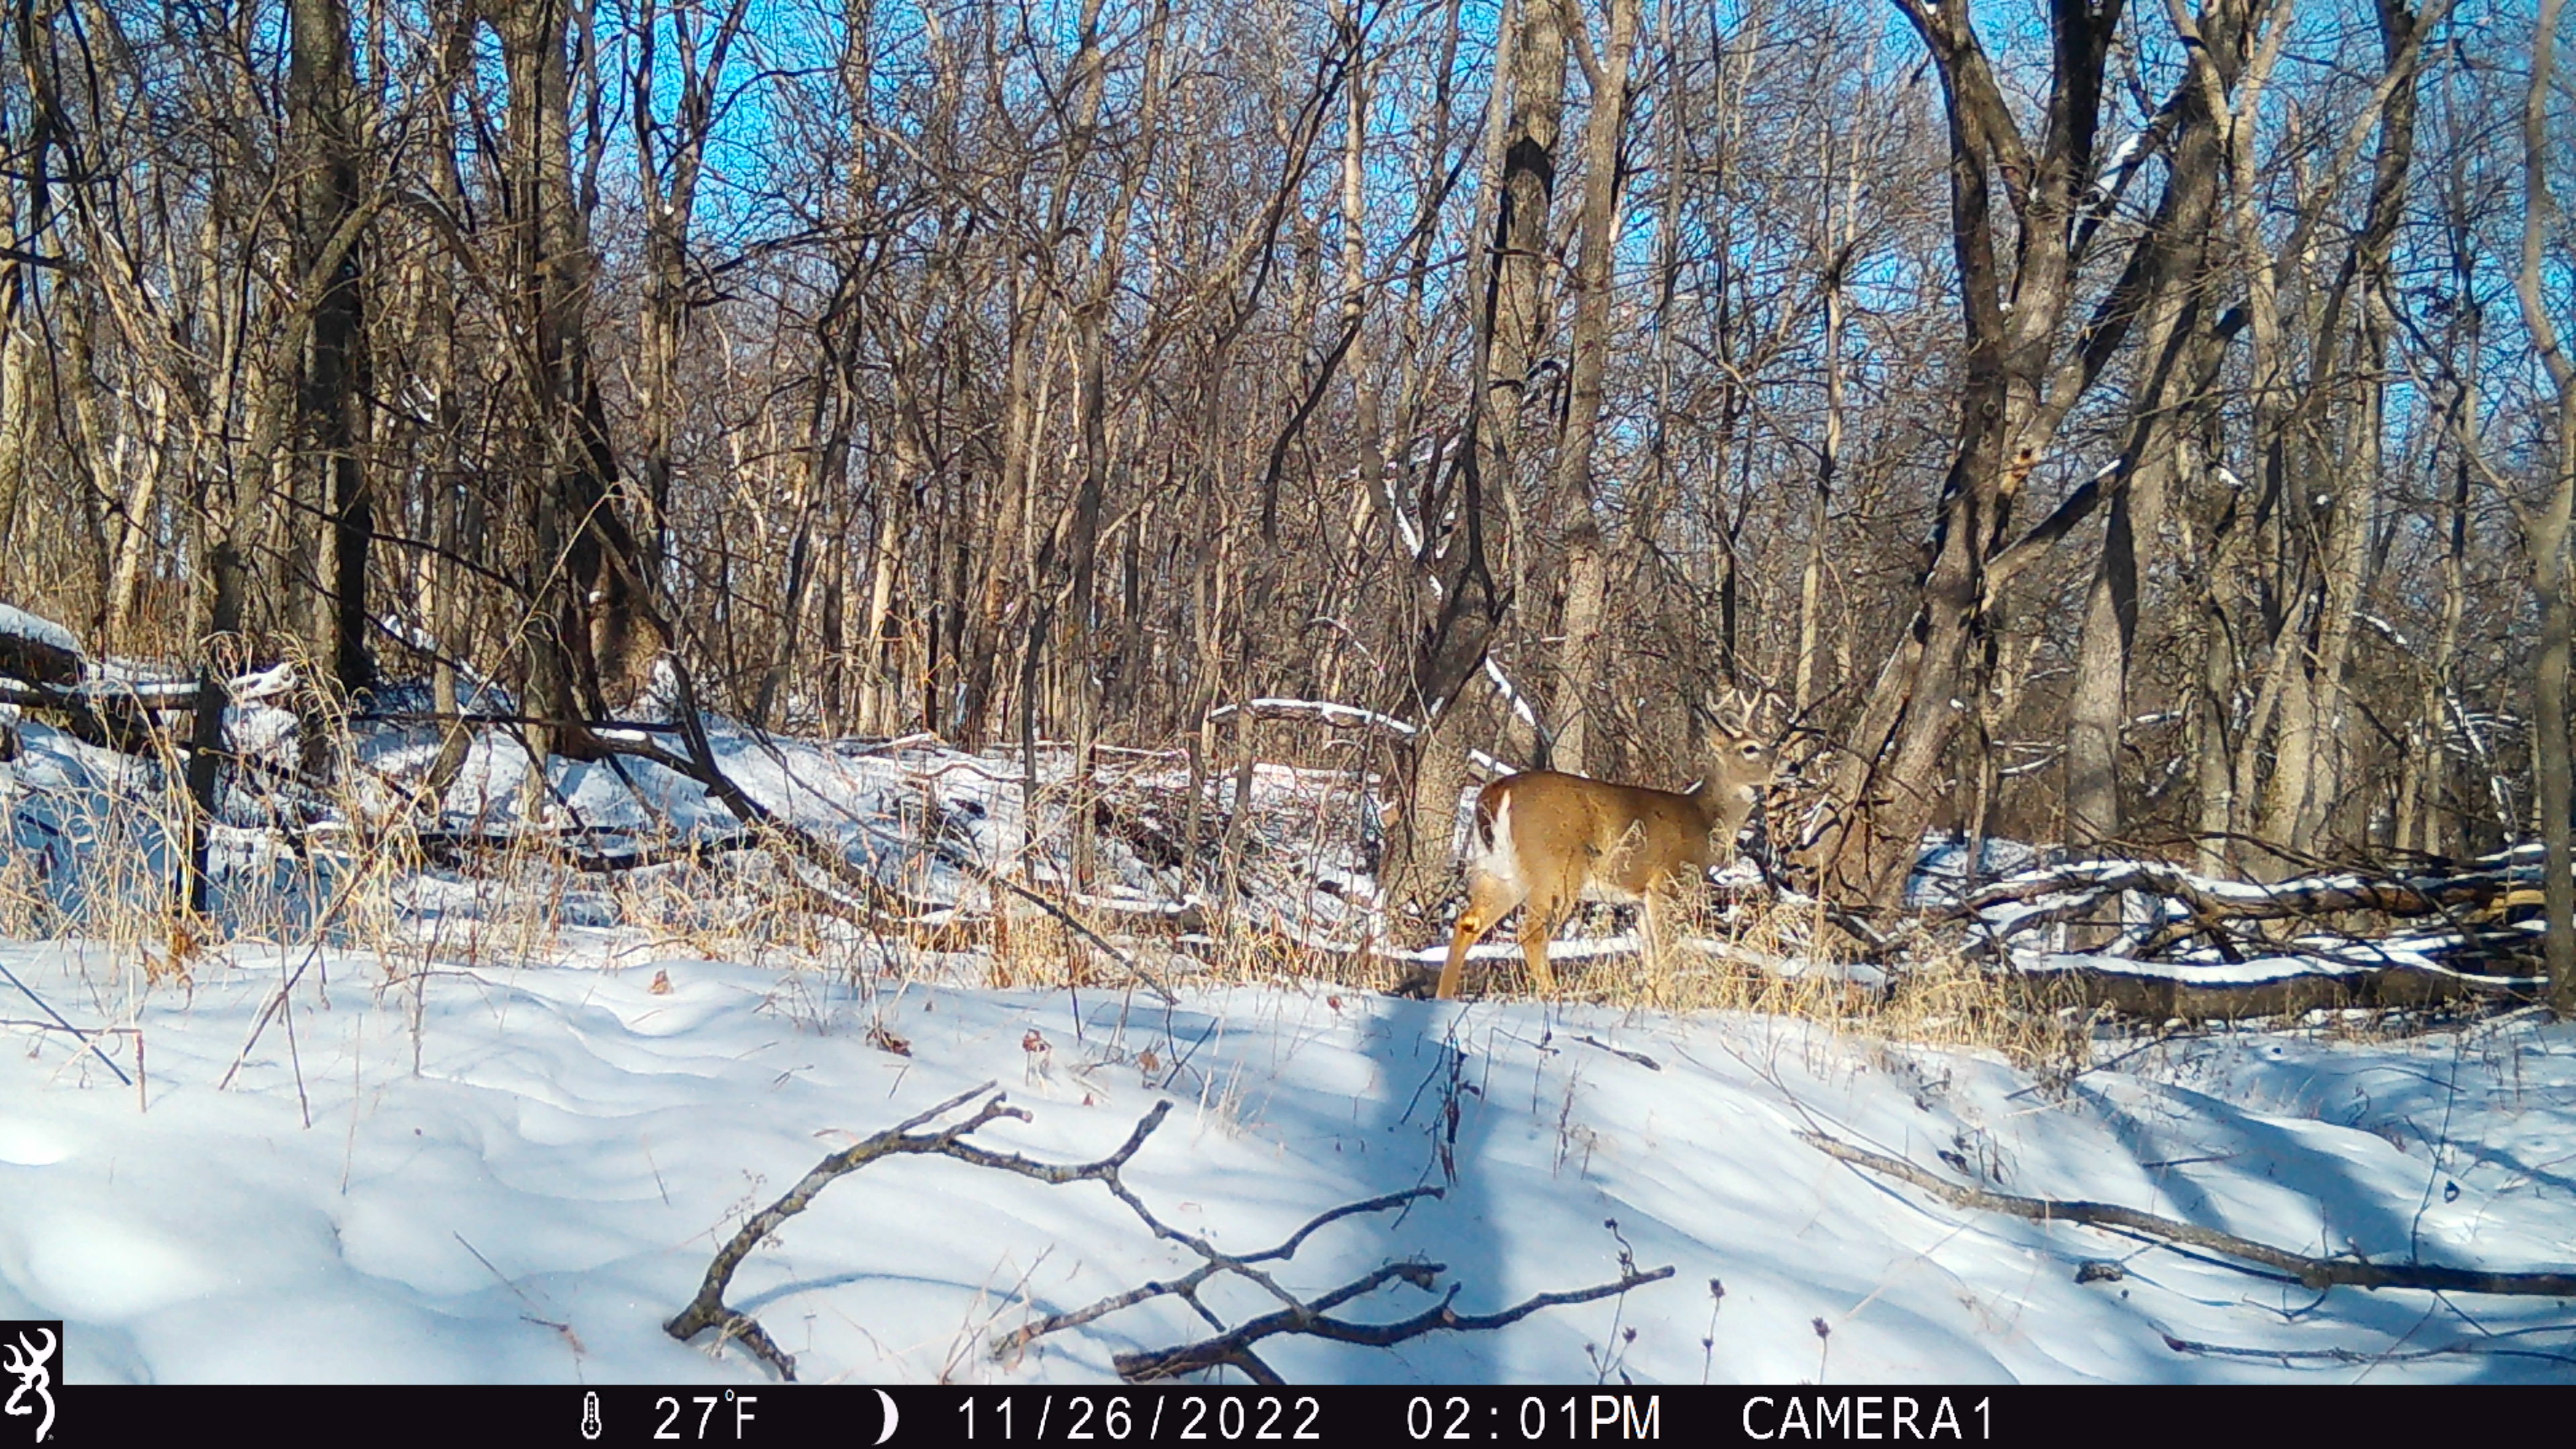DeerBuck: (1440, 685, 1805, 1000)
DeerBuckHead: (1686, 685, 1805, 783)
